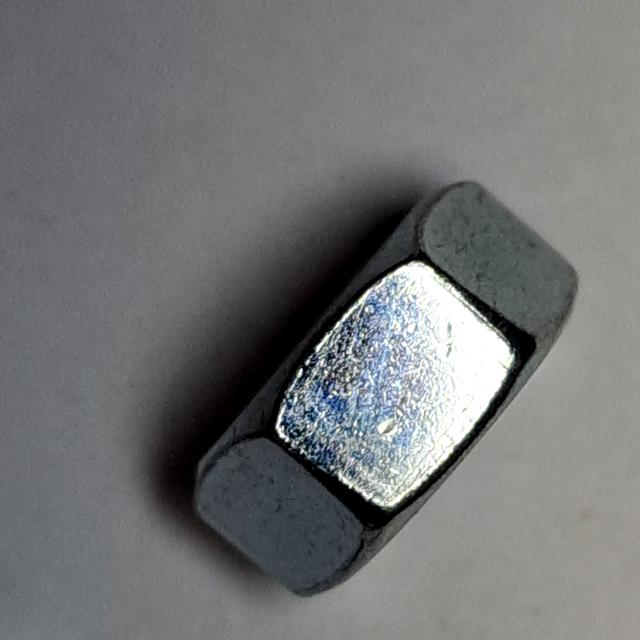Side_Excellent: (179, 169, 588, 608)
